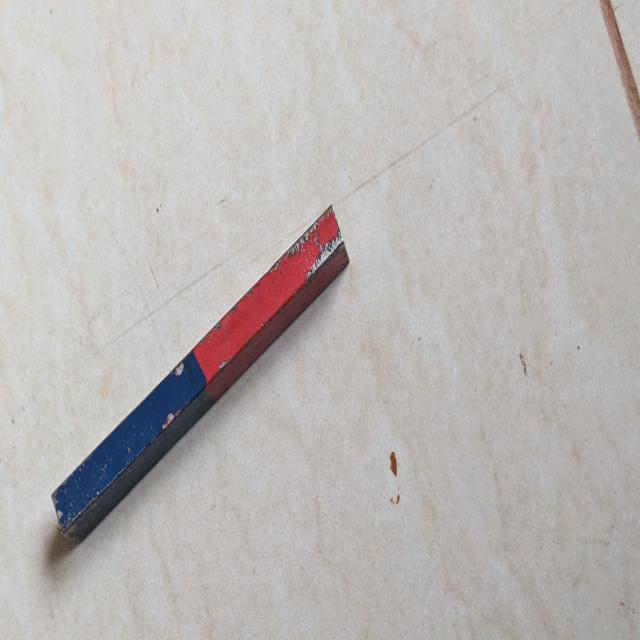Magnet: (27, 155, 354, 550)
